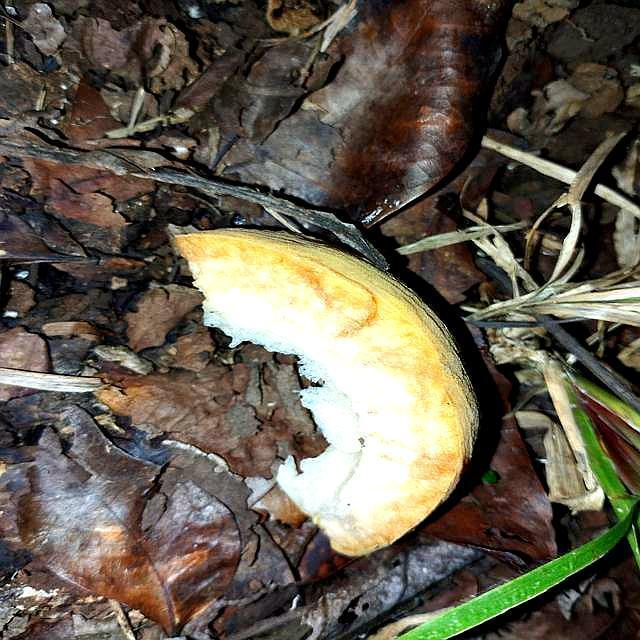Biodegradable: (175, 231, 491, 561)
